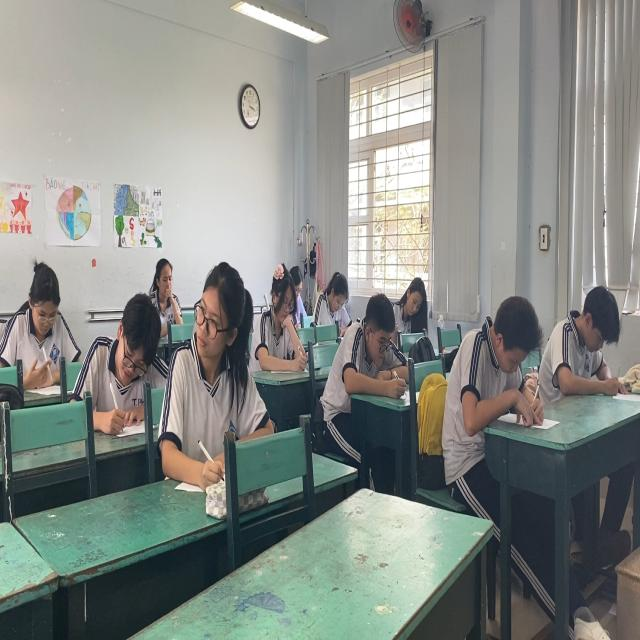cheating: (170, 261, 263, 471)
not_cheating: (456, 284, 535, 430), (75, 291, 166, 413), (551, 284, 632, 405), (10, 257, 74, 381), (253, 257, 312, 388), (337, 291, 409, 398), (143, 254, 189, 333), (310, 268, 358, 329), (393, 270, 430, 332)
